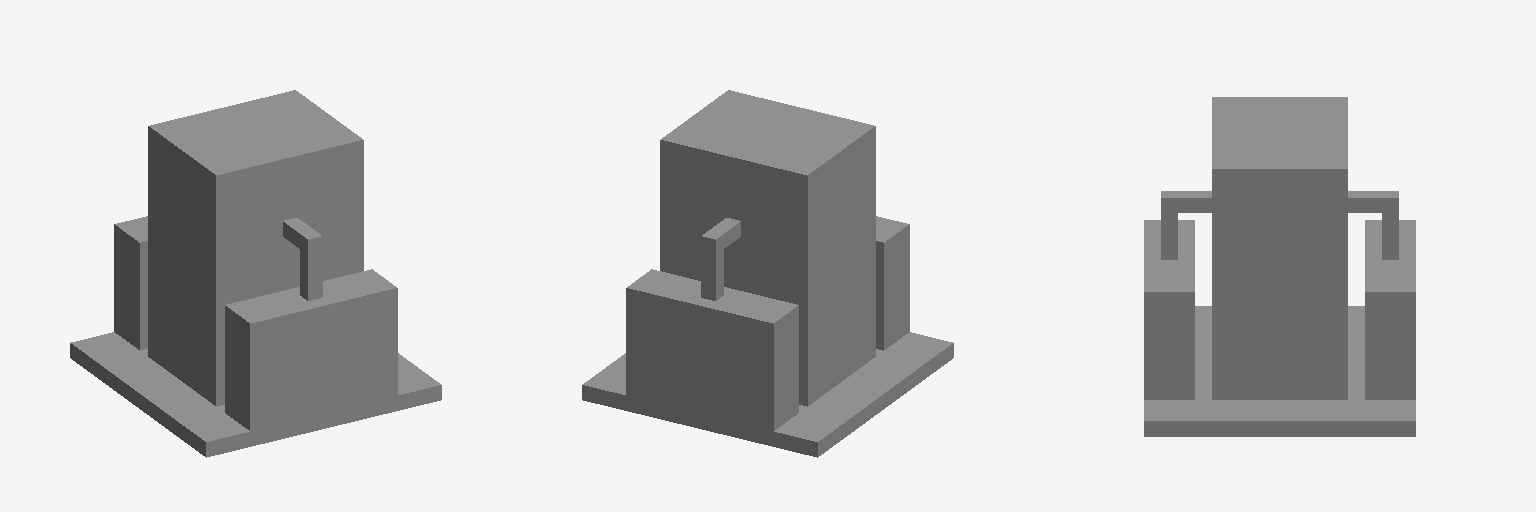
Rendered from agitator.obj.
3 views of the same model, side by side, from view 1: azimuth 30°, elevation 25°; view 2: azimuth 150°, elevation 25°; view 3: azimuth 270°, elevation 25° (orthographic).
Visible parts, largest first — view 1: Cube; view 2: Cube; view 3: Cube.
Boxes of the visible parts, x1,y1,x2,y2 form: Cube: [70, 90, 441, 457]; Cube: [582, 90, 953, 457]; Cube: [1144, 97, 1415, 436].
Size of the model in its own units: 1 by 1 by 1.